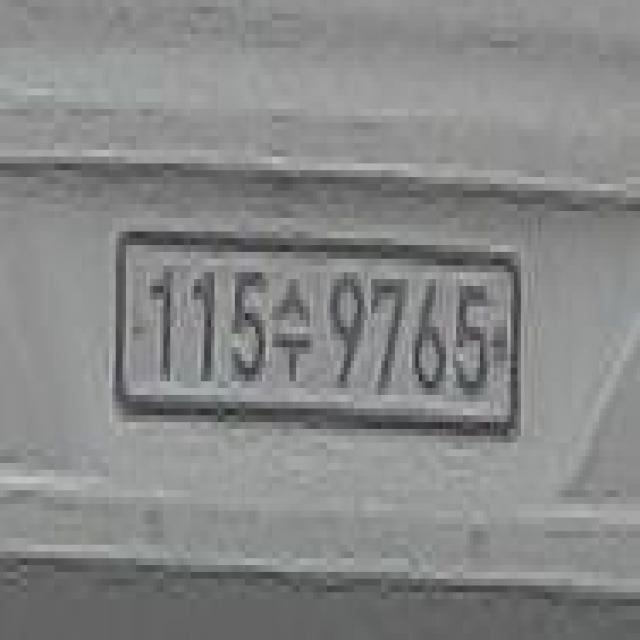illegal_plate: (108, 220, 526, 456)
